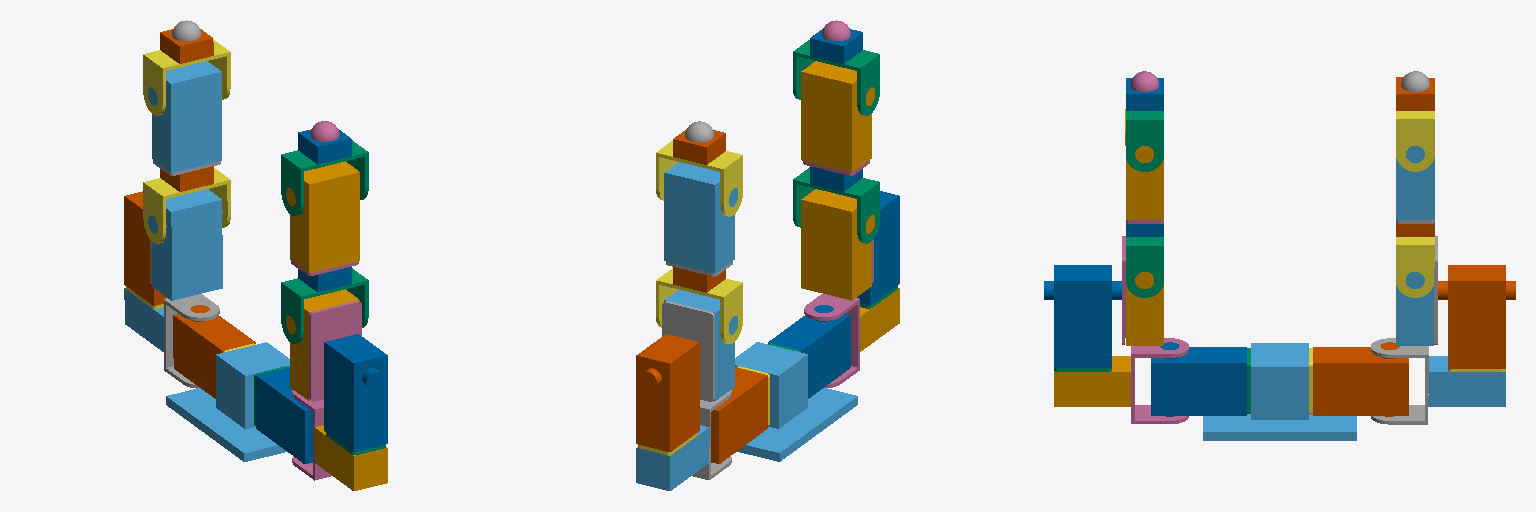
--- Render facts (derived) ---
3 views of the same robot in one strip: view 1: azimuth 30°, elevation 25°; view 2: azimuth 150°, elevation 25°; view 3: azimuth 270°, elevation 25° (orthographic).
Model gripper_v1 with 32 links and 31 joints (8 revolute, 23 fixed), rooted at map, posed every joint at zero.
Visible links, largest first — view 1: base_link, link_11, link_16, link_24, link_23, link_4, link_3, link_7, link_13, link_12, link_26, link_18 (+10 smaller); view 2: base_link, link_12, link_15, link_23, link_24, link_3, link_4, link_8, link_14, link_11, link_17, link_25 (+10 smaller); view 3: base_link, link_12, link_3, link_4, link_11, link_8, link_7, link_24, link_23, link_16, link_15, link_26 (+7 smaller).
Boxes of the visible links, left/top/right/bottom form: base_link: left=166, top=342, right=289, bottom=461; link_11: left=324, top=334, right=387, bottom=451; link_16: left=148, top=189, right=222, bottom=300; link_24: left=148, top=61, right=221, bottom=172; link_23: left=286, top=161, right=359, bottom=272; link_4: left=173, top=305, right=255, bottom=398; link_3: left=256, top=367, right=312, bottom=463; link_7: left=315, top=425, right=387, bottom=490; link_13: left=309, top=301, right=361, bottom=401; link_12: left=124, top=191, right=166, bottom=305; link_26: left=143, top=39, right=230, bottom=115; link_18: left=143, top=168, right=230, bottom=243; base_link: left=735, top=342, right=857, bottom=461; link_12: left=636, top=334, right=699, bottom=451; link_15: left=801, top=189, right=874, bottom=300; link_23: left=801, top=61, right=874, bottom=172; link_24: left=664, top=162, right=737, bottom=273; link_3: left=768, top=305, right=850, bottom=398; link_4: left=711, top=367, right=767, bottom=463; link_8: left=636, top=425, right=709, bottom=490; link_14: left=662, top=301, right=714, bottom=401; link_11: left=857, top=191, right=899, bottom=305; link_17: left=793, top=167, right=879, bottom=243; link_25: left=793, top=40, right=879, bottom=115; base_link: left=1203, top=343, right=1356, bottom=440; link_12: left=1438, top=265, right=1515, bottom=368; link_3: left=1151, top=342, right=1246, bottom=416; link_4: left=1313, top=342, right=1408, bottom=416; link_11: left=1044, top=265, right=1121, bottom=367; link_8: left=1428, top=356, right=1505, bottom=406; link_7: left=1054, top=356, right=1130, bottom=406; link_24: left=1396, top=146, right=1434, bottom=219; link_23: left=1125, top=109, right=1163, bottom=219; link_16: left=1396, top=272, right=1433, bottom=345; link_15: left=1126, top=272, right=1163, bottom=345; link_26: left=1396, top=111, right=1434, bottom=171.
Bounding box of the posed robot: 0.6 × 2.44 × 1.97 m (x, y, z).
25 mesh visuals loaded from 6 distinct referenced files (6 binary STL).

URDF robot description (gripper_v1):
<?xml version="1.0"?>
<robot name="gripper_v1">

  <!-- ################################################################################################# -->
  <!-- Map -->
  <link name="map"/>
  
  <!-- Base Link -->
  <link name="base_link">
    <visual>
      <geometry>
        <mesh filename="package://robot_description/meshes/Base.stl" scale="0.01 0.01 0.01"/>
      </geometry>
      <material name="White"/>
    </visual>
    <collision>
      <geometry>
        <mesh filename="package://robot_description/meshes/Base.stl" scale="0.01 0.01 0.01"/>
      </geometry>
      <material name="White"/>
    </collision>
    <inertial>
      <mass value="1.0"/>
      <origin xyz="0 0 0"/>
      <inertia ixx="0.01" ixy="0" ixz="0" iyy="0.01" iyz="0" izz="0.01"/>
    </inertial>
  </link>

  <!-- Joint 0 -->
  <joint name="joint_0" type="fixed">
    <parent link="map"/>
    <child link="base_link"/>
    <origin xyz="0 0 0.025" rpy="0 0 0"/>
  </joint>

  <!-- ################################################################################################# -->
  <!-- Link 1 -->
  <link name="link_1">
    <visual>
      <geometry>
        <mesh filename="package://robot_description/meshes/Servo_Plate_20x30.stl" scale="0.01 0.01 0.01"/>
      </geometry>
      <material name="Grey"/>
    </visual>
    <collision>
      <geometry>
        <mesh filename="package://robot_description/meshes/Servo_Plate_20x30.stl" scale="0.01 0.01 0.01"/>
      </geometry>
      <material name="Grey"/>
    </collision>
    <inertial>
      <mass value="1.0"/>
      <origin xyz="0 0 0"/>
      <inertia ixx="0.01" ixy="0" ixz="0" iyy="0.01" iyz="0" izz="0.01"/>
    </inertial>
  </link>

  <!-- Joint 1 -->
  <joint name="joint_1" type="fixed">
    <parent link="base_link"/>
    <child link="link_1"/>
    <origin xyz="0 -0.15 0.20" rpy="1.57 0 0"/>
  </joint>

  <!-- Link 2 -->
  <link name="link_2">
    <visual>
      <geometry>
        <mesh filename="package://robot_description/meshes/Servo_Plate_20x30.stl" scale="0.01 0.01 0.01"/>
      </geometry>
      <material name="Grey"/>
    </visual>
    <collision>
      <geometry>
        <mesh filename="package://robot_description/meshes/Servo_Plate_20x30.stl" scale="0.01 0.01 0.01"/>
      </geometry>
      <material name="Grey"/>
    </collision>
    <inertial>
      <mass value="1.0"/>
      <origin xyz="0 0 0"/>
      <inertia ixx="0.01" ixy="0" ixz="0" iyy="0.01" iyz="0" izz="0.01"/>
    </inertial>
  </link>

  <!-- Joint 2 -->
  <joint name="joint_2" type="fixed">
    <parent link="base_link"/>
    <child link="link_2"/>
    <origin xyz="0 0.15 0.20" rpy="-1.57 3.14 0"/>
  </joint>

  <!-- ################################################################################################# -->
  <!-- Link 3 -->
  <link name="link_3">
    <visual>
      <geometry>
        <mesh filename="package://robot_description/meshes/Servo1.stl" scale="0.01 0.01 0.01"/>
      </geometry>
      <material name="Blue"/>
    </visual>
    <collision>
      <geometry>
        <mesh filename="package://robot_description/meshes/Servo1.stl" scale="0.01 0.01 0.01"/>
      </geometry>
      <material name="Blue"/>
    </collision>
    <inertial>
      <mass value="1.0"/>
      <origin xyz="0 0 0"/>
      <inertia ixx="0.01" ixy="0" ixz="0" iyy="0.01" iyz="0" izz="0.01"/>
    </inertial>
  </link>

  <!-- Joint 3 -->
  <joint name="joint_3" type="fixed">
    <parent link="link_1"/>
    <child link="link_3"/>
    <origin xyz="0 0 0.42" rpy="-1.57 0 0"/>
  </joint>

  <!-- Link 4 -->
  <link name="link_4">
    <visual>
      <geometry>
        <mesh filename="package://robot_description/meshes/Servo1.stl" scale="0.01 0.01 0.01"/>
      </geometry>
      <material name="Blue"/>
    </visual>
    <collision>
      <geometry>
        <mesh filename="package://robot_description/meshes/Servo1.stl" scale="0.01 0.01 0.01"/>
      </geometry>
      <material name="Blue"/>
    </collision>
    <inertial>
      <mass value="1.0"/>
      <origin xyz="0 0 0"/>
      <inertia ixx="0.01" ixy="0" ixz="0" iyy="0.01" iyz="0" izz="0.01"/>
    </inertial>
  </link>

  <!-- Joint 4 -->
  <joint name="joint_4" type="fixed">
    <parent link="link_2"/>
    <child link="link_4"/>
    <origin xyz="0 0 0.42" rpy="-1.57 0 0"/>
  </joint>

  <!-- ################################################################################################# -->
  <!-- Link 5 -->
  <link name="link_5">
    <visual>
      <geometry>
        <mesh filename="package://robot_description/meshes/Clamp.stl" scale="0.01 0.01 0.01"/>
      </geometry>
      <material name="Red"/>
    </visual>
    <collision>
      <geometry>
        <mesh filename="package://robot_description/meshes/Clamp.stl" scale="0.01 0.01 0.01"/>
      </geometry>
      <material name="Red"/>
    </collision>
    <inertial>
      <mass value="1.0"/>
      <origin xyz="0 0 0"/>
      <inertia ixx="0.01" ixy="0" ixz="0" iyy="0.01" iyz="0" izz="0.01"/>
    </inertial>
  </link>

  <!-- Joint 5 -->
  <joint name="joint_5" type="revolute">
    <parent link="link_3"/>
    <child link="link_5"/>
    <origin xyz="0 0 0" rpy="0 0 1.57"/>
    <axis xyz="0 0 1"/>
    <limit effort="10" lower="-1.57" upper="1.57" velocity="5"/>
  </joint>

  <!-- Link 6 -->
  <link name="link_6">
    <visual>
      <geometry>
        <mesh filename="package://robot_description/meshes/Clamp.stl" scale="0.01 0.01 0.01"/>
      </geometry>
      <material name="Red"/>
    </visual>
    <collision>
      <geometry>
        <mesh filename="package://robot_description/meshes/Clamp.stl" scale="0.01 0.01 0.01"/>
      </geometry>
      <material name="Red"/>
    </collision>
    <inertial>
      <mass value="1.0"/>
      <origin xyz="0 0 0"/>
      <inertia ixx="0.01" ixy="0" ixz="0" iyy="0.01" iyz="0" izz="0.01"/>
    </inertial>
  </link>

  <!-- Joint 6 -->
  <joint name="joint_6" type="revolute">
    <parent link="link_4"/>
    <child link="link_6"/>
    <origin xyz="0 0 0" rpy="0 0 1.57"/>
    <axis xyz="0 0 1"/>
    <limit effort="10" lower="-1.57" upper="1.57" velocity="5"/>
  </joint>

  <!-- ################################################################################################# -->
  <!-- Link 7 -->
  <link name="link_7">
    <visual>
      <geometry>
        <box size="0.2 0.2 0.4"/>
      </geometry>
      <material name="White"/>
    </visual>
    <collision>
      <geometry>
        <box size="0.2 0.2 0.4"/>
      </geometry>
      <material name="White"/>
    </collision>
    <inertial>
      <mass value="1.0"/>
      <origin xyz="0 0 0"/>
      <inertia ixx="0.01" ixy="0" ixz="0" iyy="0.01" iyz="0" izz="0.01"/>
    </inertial>
  </link>

  <!-- Joint 7 -->
  <joint name="joint_7" type="fixed">
    <parent link="link_5"/>
    <child link="link_7"/>
    <origin xyz="-0.40 0 0" rpy="0 -1.57 0 "/>
  </joint>

  <!-- Link 8 -->
  <link name="link_8">
    <visual>
      <geometry>
        <box size="0.2 0.2 0.4"/>
      </geometry>
      <material name="White"/>
    </visual>
    <collision>
      <geometry>
        <box size="0.2 0.2 0.4"/>
      </geometry>
      <material name="White"/>
    </collision>
    <inertial>
      <mass value="1.0"/>
      <origin xyz="0 0 0"/>
      <inertia ixx="0.01" ixy="0" ixz="0" iyy="0.01" iyz="0" izz="0.01"/>
    </inertial>
  </link>

  <!-- Joint 8 -->
  <joint name="joint_8" type="fixed">
    <parent link="link_6"/>
    <child link="link_8"/>
    <origin xyz="-0.40 0 0" rpy="0 -1.57 0"/>
  </joint>

  <!-- ################################################################################################# -->
  <!-- Link 9 -->
  <link name="link_9">
    <visual>
      <geometry>
        <mesh filename="package://robot_description/meshes/Servo_Plate_20x30.stl" scale="0.01 0.01 0.01"/>
      </geometry>
      <material name="Grey"/>
    </visual>
    <collision>
      <geometry>
        <mesh filename="package://robot_description/meshes/Servo_Plate_20x30.stl" scale="0.01 0.01 0.01"/>
      </geometry>
      <material name="Grey"/>
    </collision>
    <inertial>
      <mass value="1.0"/>
      <origin xyz="0 0 0"/>
      <inertia ixx="0.01" ixy="0" ixz="0" iyy="0.01" iyz="0" izz="0.01"/>
    </inertial>
  </link>

  <!-- Joint 9 -->
  <joint name="joint_9" type="fixed">
    <parent link="link_7"/>
    <child link="link_9"/>
    <origin xyz="0.1 0 0.05" rpy="1.57 0 1.57"/>
  </joint>

  <!-- Link 10 -->
  <link name="link_10">
    <visual>
      <geometry>
        <mesh filename="package://robot_description/meshes/Servo_Plate_20x30.stl" scale="0.01 0.01 0.01"/>
      </geometry>
      <material name="Grey"/>
    </visual>
    <collision>
      <geometry>
        <mesh filename="package://robot_description/meshes/Servo_Plate_20x30.stl" scale="0.01 0.01 0.01"/>
      </geometry>
      <material name="Grey"/>
    </collision>
    <inertial>
      <mass value="1.0"/>
      <origin xyz="0 0 0"/>
      <inertia ixx="0.01" ixy="0" ixz="0" iyy="0.01" iyz="0" izz="0.01"/>
    </inertial>
  </link>

  <!-- Joint 10 -->
  <joint name="joint_10" type="fixed">
    <parent link="link_8"/>
    <child link="link_10"/>
    <origin xyz="0.1 0 0.05" rpy="1.57 0 1.57"/>
  </joint>

  <!-- ################################################################################################# -->
  <!-- Link 11 -->
  <link name="link_11">
    <visual>
      <geometry>
        <mesh filename="package://robot_description/meshes/Servo1.stl" scale="0.01 0.01 0.01"/>
      </geometry>
      <material name="Blue"/>
    </visual>
    <collision>
      <geometry>
        <mesh filename="package://robot_description/meshes/Servo1.stl" scale="0.01 0.01 0.01"/>
      </geometry>
      <material name="Blue"/>
    </collision>
    <inertial>
      <mass value="1.0"/>
      <origin xyz="0 0 0"/>
      <inertia ixx="0.01" ixy="0" ixz="0" iyy="0.01" iyz="0" izz="0.01"/>
    </inertial>
  </link>

  <!-- Joint 11 -->
  <joint name="joint_11" type="fixed">
    <parent link="link_9"/>
    <child link="link_11"/>
    <origin xyz="0 0 0.42" rpy="-1.57 0 0"/>
  </joint>

  <!-- Link 12 -->
  <link name="link_12">
    <visual>
      <geometry>
        <mesh filename="package://robot_description/meshes/Servo1.stl" scale="0.01 0.01 0.01"/>
      </geometry>
      <material name="Blue"/>
    </visual>
    <collision>
      <geometry>
        <mesh filename="package://robot_description/meshes/Servo1.stl" scale="0.01 0.01 0.01"/>
      </geometry>
      <material name="Blue"/>
    </collision>
    <inertial>
      <mass value="1.0"/>
      <origin xyz="0 0 0"/>
      <inertia ixx="0.01" ixy="0" ixz="0" iyy="0.01" iyz="0" izz="0.01"/>
    </inertial>
  </link>

  <!-- Joint 12 -->
  <joint name="joint_12" type="fixed">
    <parent link="link_10"/>
    <child link="link_12"/>
    <origin xyz="0 0 0.42" rpy="-1.57 0 0"/>
  </joint>

  <!-- ################################################################################################# -->
  <!-- Link 13 -->
  <link name="link_13">
    <visual>
      <geometry>
        <mesh filename="package://robot_description/meshes/Servo_Plate_30x50.stl" scale="0.01 0.01 0.01"/>
      </geometry>
      <material name="Grey"/>
    </visual>
    <collision>
      <geometry>
        <mesh filename="package://robot_description/meshes/Servo_Plate_30x50.stl" scale="0.01 0.01 0.01"/>
      </geometry>
      <material name="Grey"/>
    </collision>
    <inertial>
      <mass value="1.0"/>
      <origin xyz="0 0 0"/>
      <inertia ixx="0.01" ixy="0" ixz="0" iyy="0.01" iyz="0" izz="0.01"/>
    </inertial>
  </link>

  <!-- Joint 13 -->
  <joint name="joint_13" type="revolute">
    <parent link="link_11"/>
    <child link="link_13"/>
    <origin xyz="0 0 -0.22" rpy="0 0 0"/>
    <axis xyz="0 0 1"/>
    <limit effort="10" lower="-1.57" upper="1.57" velocity="5"/>
  </joint>

  <!-- Link 14 -->
  <link name="link_14">
    <visual>
      <geometry>
        <mesh filename="package://robot_description/meshes/Servo_Plate_30x50.stl" scale="0.01 0.01 0.01"/>
      </geometry>
      <material name="Grey"/>
    </visual>
    <collision>
      <geometry>
        <mesh filename="package://robot_description/meshes/Servo_Plate_30x50.stl" scale="0.01 0.01 0.01"/>
      </geometry>
      <material name="Grey"/>
    </collision>
    <inertial>
      <mass value="1.0"/>
      <origin xyz="0 0 0"/>
      <inertia ixx="0.01" ixy="0" ixz="0" iyy="0.01" iyz="0" izz="0.01"/>
    </inertial>
  </link>

  <!-- Joint 14 -->
  <joint name="joint_14" type="revolute">
    <parent link="link_12"/>
    <child link="link_14"/>
    <origin xyz="0 0 -0.22" rpy="0 0 0"/>
    <axis xyz="0 0 1"/>
    <limit effort="10" lower="-1.57" upper="1.57" velocity="5"/>
  </joint>

  <!-- ################################################################################################# -->
  <!-- Link 15 -->
  <link name="link_15">
    <visual>
      <geometry>
        <mesh filename="package://robot_description/meshes/Servo1.stl" scale="0.01 0.01 0.01"/>
      </geometry>
      <material name="Blue"/>
    </visual>
    <collision>
      <geometry>
        <mesh filename="package://robot_description/meshes/Servo1.stl" scale="0.01 0.01 0.01"/>
      </geometry>
      <material name="Blue"/>
    </collision>
    <inertial>
      <mass value="1.0"/>
      <origin xyz="0 0 0"/>
      <inertia ixx="0.01" ixy="0" ixz="0" iyy="0.01" iyz="0" izz="0.01"/>
    </inertial>
  </link>

  <!-- Joint 15 -->
  <joint name="joint_15" type="fixed">
    <parent link="link_13"/>
    <child link="link_15"/>
    <origin xyz="0 -0.15 -0.10" rpy="0 1.57 0"/>
  </joint>

  <!-- Link 16 -->
  <link name="link_16">
    <visual>
      <geometry>
        <mesh filename="package://robot_description/meshes/Servo1.stl" scale="0.01 0.01 0.01"/>
      </geometry>
      <material name="Blue"/>
    </visual>
    <collision>
      <geometry>
        <mesh filename="package://robot_description/meshes/Servo1.stl" scale="0.01 0.01 0.01"/>
      </geometry>
      <material name="Blue"/>
    </collision>
    <inertial>
      <mass value="1.0"/>
      <origin xyz="0 0 0"/>
      <inertia ixx="0.01" ixy="0" ixz="0" iyy="0.01" iyz="0" izz="0.01"/>
    </inertial>
  </link>

  <!-- Joint 16 -->
  <joint name="joint_16" type="fixed">
    <parent link="link_14"/>
    <child link="link_16"/>
    <origin xyz="0 -0.15 -0.10" rpy="0 1.57 0"/>
  </joint>

  <!-- ################################################################################################# -->
  <!-- Link 17 -->
  <link name="link_17">
    <visual>
      <geometry>
        <mesh filename="package://robot_description/meshes/Clamp.stl" scale="0.01 0.01 0.01"/>
      </geometry>
      <material name="Red"/>
    </visual>
    <collision>
      <geometry>
        <mesh filename="package://robot_description/meshes/Clamp.stl" scale="0.01 0.01 0.01"/>
      </geometry>
      <material name="Red"/>
    </collision>
    <inertial>
      <mass value="1.0"/>
      <origin xyz="0 0 0"/>
      <inertia ixx="0.01" ixy="0" ixz="0" iyy="0.01" iyz="0" izz="0.01"/>
    </inertial>
  </link>

  <!-- Joint 17 -->
  <joint name="joint_17" type="revolute">
    <parent link="link_15"/>
    <child link="link_17"/>
    <origin xyz="0 0 0" rpy="0 0 1.57"/>
    <axis xyz="0 0 1"/>
    <limit effort="10" lower="-1.57" upper="1.57" velocity="5"/>
  </joint>

  <!-- Link 18 -->
  <link name="link_18">
    <visual>
      <geometry>
        <mesh filename="package://robot_description/meshes/Clamp.stl" scale="0.01 0.01 0.01"/>
      </geometry>
      <material name="Red"/>
    </visual>
    <collision>
      <geometry>
        <mesh filename="package://robot_description/meshes/Clamp.stl" scale="0.01 0.01 0.01"/>
      </geometry>
      <material name="Red"/>
    </collision>
    <inertial>
      <mass value="1.0"/>
      <origin xyz="0 0 0"/>
      <inertia ixx="0.01" ixy="0" ixz="0" iyy="0.01" iyz="0" izz="0.01"/>
    </inertial>
  </link>

  <!-- Joint 18 -->
  <joint name="joint_18" type="revolute">
    <parent link="link_16"/>
    <child link="link_18"/>
    <origin xyz="0 0 0" rpy="0 0 1.57"/>
    <axis xyz="0 0 1"/>
    <limit effort="10" lower="-1.57" upper="1.57" velocity="5"/>
  </joint>

  <!-- ################################################################################################# -->
  <!-- Link 19 -->
  <link name="link_19">
    <visual>
      <geometry>
        <box size="0.1 0.2 0.2"/>
      </geometry>
      <material name="White"/>
    </visual>
    <collision>
      <geometry>
        <box size="0.1 0.2 0.2"/>
      </geometry>
      <material name="White"/>
    </collision>
    <inertial>
      <mass value="1.0"/>
      <origin xyz="0 0 0"/>
      <inertia ixx="0.01" ixy="0" ixz="0" iyy="0.01" iyz="0" izz="0.01"/>
    </inertial>
  </link>

  <!-- Joint 19 -->
  <joint name="joint_19" type="fixed">
    <parent link="link_17"/>
    <child link="link_19"/>
    <origin xyz="-0.25 0 0" rpy="0 0 0 "/>
  </joint>

  <!-- Link 20 -->
  <link name="link_20">
    <visual>
      <geometry>
        <box size="0.1 0.2 0.2"/>
      </geometry>
      <material name="White"/>
    </visual>
    <collision>
      <geometry>
        <box size="0.1 0.2 0.2"/>
      </geometry>
      <material name="White"/>
    </collision>
    <inertial>
      <mass value="1.0"/>
      <origin xyz="0 0 0"/>
      <inertia ixx="0.01" ixy="0" ixz="0" iyy="0.01" iyz="0" izz="0.01"/>
    </inertial>
  </link>

  <!-- Joint 20 -->
  <joint name="joint_20" type="fixed">
    <parent link="link_18"/>
    <child link="link_20"/>
    <origin xyz="-0.25 0 0" rpy="0 0 0"/>
  </joint>

  <!-- ################################################################################################# -->
  <!-- Link 21 -->
  <link name="link_21">
    <visual>
      <geometry>
        <mesh filename="package://robot_description/meshes/Servo_Plate_20x30.stl" scale="0.01 0.01 0.01"/>
      </geometry>
      <material name="Grey"/>
    </visual>
    <collision>
      <geometry>
        <mesh filename="package://robot_description/meshes/Servo_Plate_20x30.stl" scale="0.01 0.01 0.01"/>
      </geometry>
      <material name="Grey"/>
    </collision>
    <inertial>
      <mass value="1.0"/>
      <origin xyz="0 0 0"/>
      <inertia ixx="0.01" ixy="0" ixz="0" iyy="0.01" iyz="0" izz="0.01"/>
    </inertial>
  </link>

  <!-- Joint 21 -->
  <joint name="joint_21" type="fixed">
    <parent link="link_19"/>
    <child link="link_21"/>
    <origin xyz="-0.05 0 0" rpy="-1.57 0 1.57"/>
  </joint>

  <!-- Link 22 -->
  <link name="link_22">
    <visual>
      <geometry>
        <mesh filename="package://robot_description/meshes/Servo_Plate_20x30.stl" scale="0.01 0.01 0.01"/>
      </geometry>
      <material name="Grey"/>
    </visual>
    <collision>
      <geometry>
        <mesh filename="package://robot_description/meshes/Servo_Plate_20x30.stl" scale="0.01 0.01 0.01"/>
      </geometry>
      <material name="Grey"/>
    </collision>
    <inertial>
      <mass value="1.0"/>
      <origin xyz="0 0 0"/>
      <inertia ixx="0.01" ixy="0" ixz="0" iyy="0.01" iyz="0" izz="0.01"/>
    </inertial>
  </link>

  <!-- Joint 22 -->
  <joint name="joint_22" type="fixed">
    <parent link="link_20"/>
    <child link="link_22"/>
    <origin xyz="-0.05 0 0" rpy="-1.57 0 1.57"/>
  </joint>

  <!-- ################################################################################################# -->
  <!-- Link 23 -->
  <link name="link_23">
    <visual>
      <geometry>
        <mesh filename="package://robot_description/meshes/Servo1.stl" scale="0.01 0.01 0.01"/>
      </geometry>
      <material name="Blue"/>
    </visual>
    <collision>
      <geometry>
        <mesh filename="package://robot_description/meshes/Servo1.stl" scale="0.01 0.01 0.01"/>
      </geometry>
      <material name="Blue"/>
    </collision>
    <inertial>
      <mass value="1.0"/>
      <origin xyz="0 0 0"/>
      <inertia ixx="0.01" ixy="0" ixz="0" iyy="0.01" iyz="0" izz="0.01"/>
    </inertial>
  </link>

  <!-- Joint 23 -->
  <joint name="joint_23" type="fixed">
    <parent link="link_21"/>
    <child link="link_23"/>
    <origin xyz="0 0 0.42" rpy="-1.57 0 0"/>
  </joint>

  <!-- Link 24 -->
  <link name="link_24">
    <visual>
      <geometry>
        <mesh filename="package://robot_description/meshes/Servo1.stl" scale="0.01 0.01 0.01"/>
      </geometry>
      <material name="Blue"/>
    </visual>
    <collision>
      <geometry>
        <mesh filename="package://robot_description/meshes/Servo1.stl" scale="0.01 0.01 0.01"/>
      </geometry>
      <material name="Blue"/>
    </collision>
    <inertial>
      <mass value="1.0"/>
      <origin xyz="0 0 0"/>
      <inertia ixx="0.01" ixy="0" ixz="0" iyy="0.01" iyz="0" izz="0.01"/>
    </inertial>
  </link>

  <!-- Joint 24 -->
  <joint name="joint_24" type="fixed">
    <parent link="link_22"/>
    <child link="link_24"/>
    <origin xyz="0 0 0.42" rpy="-1.57 0 0"/>
  </joint>
  
  <!-- ################################################################################################# -->
  <!-- Link 25 -->
  <link name="link_25">
    <visual>
      <geometry>
        <mesh filename="package://robot_description/meshes/Clamp.stl" scale="0.01 0.01 0.01"/>
      </geometry>
      <material name="Red"/>
    </visual>
    <collision>
      <geometry>
        <mesh filename="package://robot_description/meshes/Clamp.stl" scale="0.01 0.01 0.01"/>
      </geometry>
      <material name="Red"/>
    </collision>
    <inertial>
      <mass value="1.0"/>
      <origin xyz="0 0 0"/>
      <inertia ixx="0.01" ixy="0" ixz="0" iyy="0.01" iyz="0" izz="0.01"/>
    </inertial>
  </link>

  <!-- Joint 25 -->
  <joint name="joint_25" type="revolute">
    <parent link="link_23"/>
    <child link="link_25"/>
    <origin xyz="0 0 0" rpy="0 0 1.57"/>
    <axis xyz="0 0 1"/>
    <limit effort="10" lower="-1.57" upper="1.57" velocity="5"/>
  </joint>

  <!-- Link 26 -->
  <link name="link_26">
    <visual>
      <geometry>
        <mesh filename="package://robot_description/meshes/Clamp.stl" scale="0.01 0.01 0.01"/>
      </geometry>
      <material name="Red"/>
    </visual>
    <collision>
      <geometry>
        <mesh filename="package://robot_description/meshes/Clamp.stl" scale="0.01 0.01 0.01"/>
      </geometry>
      <material name="Red"/>
    </collision>
    <inertial>
      <mass value="1.0"/>
      <origin xyz="0 0 0"/>
      <inertia ixx="0.01" ixy="0" ixz="0" iyy="0.01" iyz="0" izz="0.01"/>
    </inertial>
  </link>

  <!-- Joint 26 -->
  <joint name="joint_26" type="revolute">
    <parent link="link_24"/>
    <child link="link_26"/>
    <origin xyz="0 0 0" rpy="0 0 1.57"/>
    <axis xyz="0 0 1"/>
    <limit effort="10" lower="-1.57" upper="1.57" velocity="5"/>
  </joint>

  <!-- ################################################################################################# -->
  <!-- Link 27 -->
  <link name="link_27">
    <visual>
      <geometry>
        <box size="0.1 0.2 0.2"/>
      </geometry>
      <material name="White"/>
    </visual>
    <collision>
      <geometry>
        <box size="0.1 0.2 0.2"/>
      </geometry>
      <material name="White"/>
    </collision>
    <inertial>
      <mass value="1.0"/>
      <origin xyz="0 0 0"/>
      <inertia ixx="0.01" ixy="0" ixz="0" iyy="0.01" iyz="0" izz="0.01"/>
    </inertial>
  </link>

  <!-- Joint 27 -->
  <joint name="joint_27" type="fixed">
    <parent link="link_25"/>
    <child link="link_27"/>
    <origin xyz="-0.25 0 0" rpy="0 0 0 "/>
  </joint>

  <!-- Link 28 -->
  <link name="link_28">
    <visual>
      <geometry>
        <box size="0.1 0.2 0.2"/>
      </geometry>
      <material name="White"/>
    </visual>
    <collision>
      <geometry>
        <box size="0.1 0.2 0.2"/>
      </geometry>
      <material name="White"/>
    </collision>
    <inertial>
      <mass value="1.0"/>
      <origin xyz="0 0 0"/>
      <inertia ixx="0.01" ixy="0" ixz="0" iyy="0.01" iyz="0" izz="0.01"/>
    </inertial>
  </link>

  <!-- Joint 28 -->
  <joint name="joint_28" type="fixed">
    <parent link="link_26"/>
    <child link="link_28"/>
    <origin xyz="-0.25 0 0" rpy="0 0 0"/>
  </joint>

  <!-- ################################################################################################# -->
  <!-- Link 29 -->
  <link name="link_29">
    <visual>
      <geometry>
        <mesh filename="package://robot_description/meshes/Hemisphere.stl" scale="0.01 0.01 0.01"/>
      </geometry>
      <material name="Red"/>
    </visual>
    <collision>
      <geometry>
        <mesh filename="package://robot_description/meshes/Hemisphere.stl" scale="0.01 0.01 0.01"/>
      </geometry>
      <material name="Red"/>
    </collision>
    <inertial>
      <mass value="1.0"/>
      <origin xyz="0 0 0"/>
      <inertia ixx="0.01" ixy="0" ixz="0" iyy="0.01" iyz="0" izz="0.01"/>
    </inertial>
  </link>

  <!-- Joint 29 -->
  <joint name="joint_29" type="fixed">
    <parent link="link_27"/>
    <child link="link_29"/>
    <origin xyz="-0.05 0 0" rpy="0 -1.57 0"/>
  </joint>

  <!-- Link 30 -->
  <link name="link_30">
    <visual>
      <geometry>
        <mesh filename="package://robot_description/meshes/Hemisphere.stl" scale="0.01 0.01 0.01"/>
      </geometry>
      <material name="Red"/>
    </visual>
    <collision>
      <geometry>
        <mesh filename="package://robot_description/meshes/Hemisphere.stl" scale="0.01 0.01 0.01"/>
      </geometry>
      <material name="Red"/>
    </collision>
    <inertial>
      <mass value="1.0"/>
      <origin xyz="0 0 0"/>
      <inertia ixx="0.01" ixy="0" ixz="0" iyy="0.01" iyz="0" izz="0.01"/>
    </inertial>
  </link>

  <!-- Joint 30 -->
  <joint name="joint_30" type="fixed">
    <parent link="link_28"/>
    <child link="link_30"/>
    <origin xyz="-0.05 0 0" rpy="0 -1.57 0"/>
  </joint>

  <!-- ################################################################################################# -->
  <!-- Gazebo plugin for ROS integration -->
  <gazebo>
    <plugin name="gazebo_ros_control" filename="libgazebo_ros_control.so">
      <robotNamespace>/</robotNamespace>
      <controlPeriod>0.001</controlPeriod>
      <robotSimType>gazebo_ros_control/DefaultRobotHWSim</robotSimType>
    </plugin>
  </gazebo>

  <gazebo reference="base_link">
    <mesh>
      <uri>model://robot_description/meshes/Base.stl</uri>
      <scale>1 1 1</scale>
    </mesh>
    <material>Gazebo/White</material>
  </gazebo>

  <gazebo reference="link_1">
    <material>Gazebo/Blue</material>
  </gazebo>

  <gazebo reference="link_2">
    <material>Gazebo/Red</material>
  </gazebo>

</robot>
